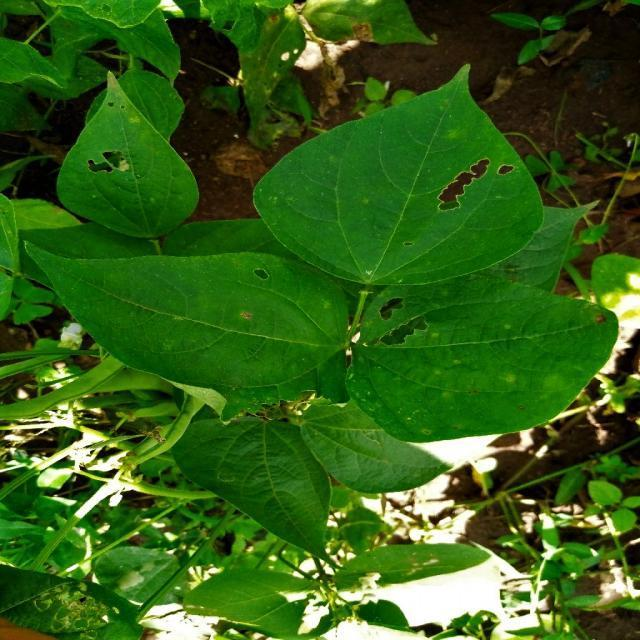hawar: (367, 292, 551, 410), (194, 238, 307, 353), (427, 140, 533, 256), (77, 115, 156, 184)
mozaik: (243, 439, 298, 494)
